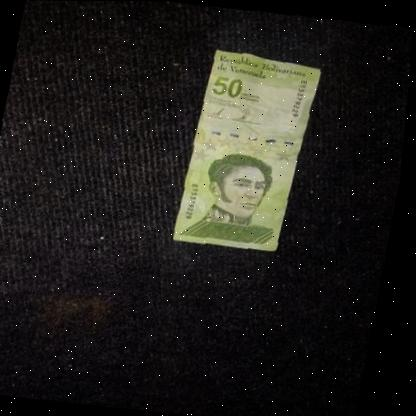fifty-front-vef: (174, 47, 325, 254)
